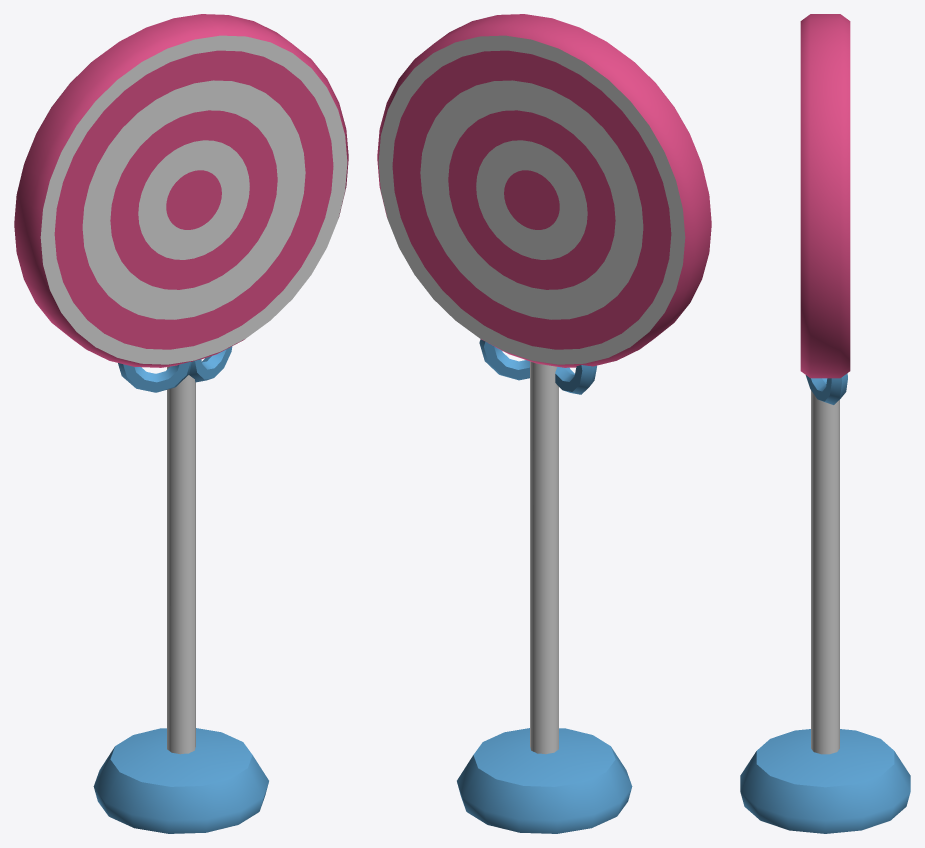
Rendered from block-deco1.glb.
The picture shows the model from 3 angles, left to right: view 1: azimuth 30°, elevation 25°; view 2: azimuth 150°, elevation 25°; view 3: azimuth 270°, elevation 25°; orthographic projection.
Parts seen in each view (by area): view 1: block-deco1; view 2: block-deco1; view 3: block-deco1.
Boxes of the visible parts, x1=… form: block-deco1: x1=14, y1=14, x2=348, y2=833; block-deco1: x1=377, y1=14, x2=711, y2=833; block-deco1: x1=740, y1=14, x2=910, y2=833.
Bounding box in the file's own units: 1.76 × 4.08 × 0.8189.
